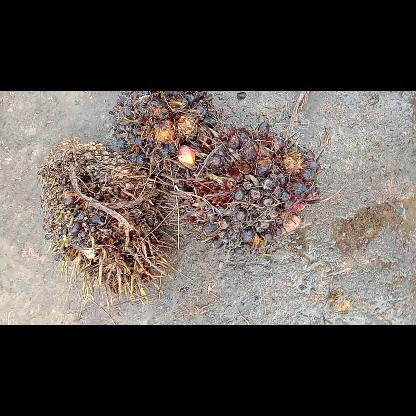TBS abnormal: (40, 138, 176, 306), (161, 122, 319, 256), (109, 91, 217, 165)
